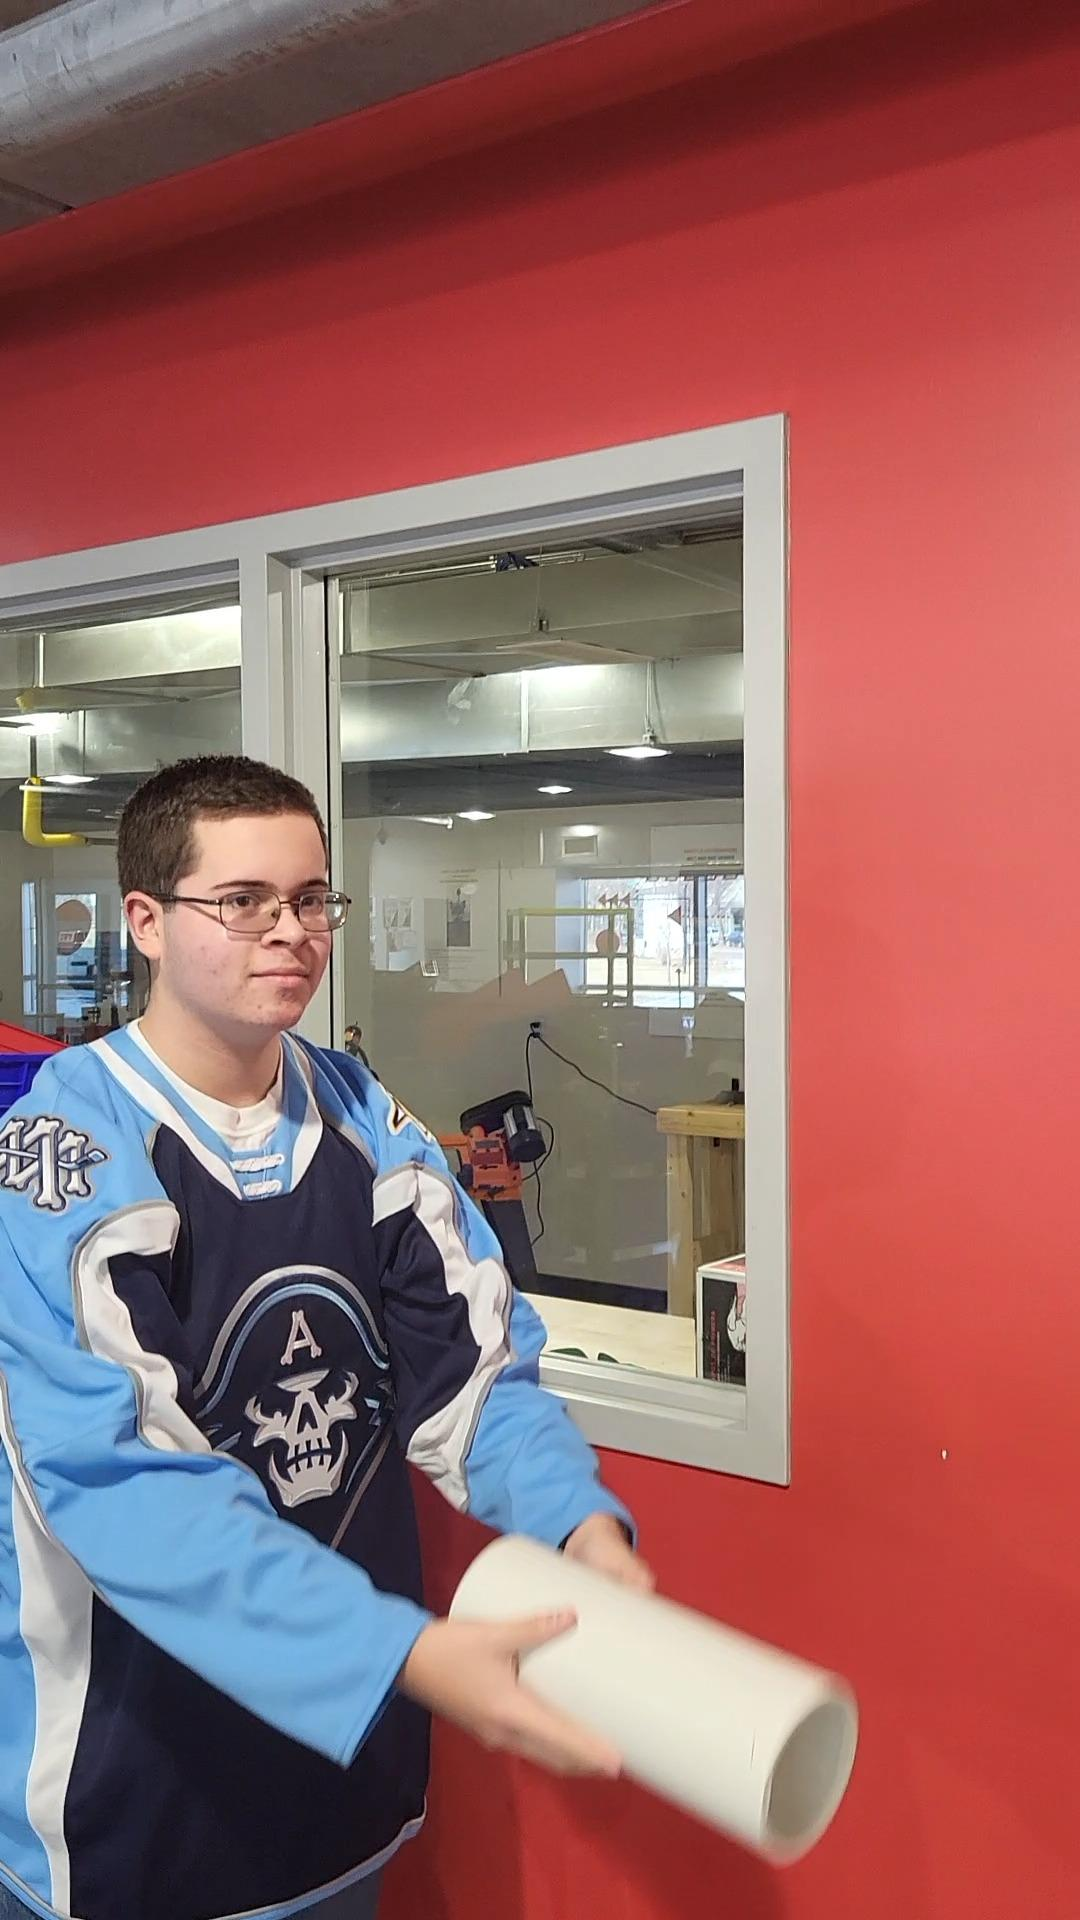coral: (450, 1536, 857, 1854)
